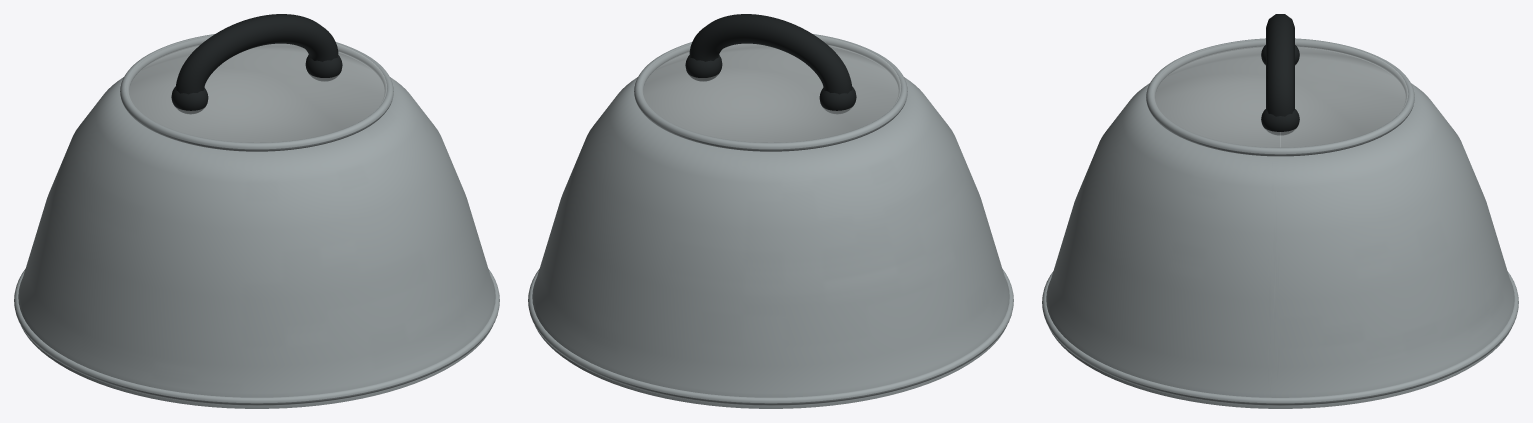
Rendered from cookware__steamer_dome_lid.glb.
3 renders of one model, left to right at view 1: azimuth 30°, elevation 25°; view 2: azimuth 150°, elevation 25°; view 3: azimuth 270°, elevation 25°, orthographic.
Parts seen in each view (by area): view 1: lid; view 2: lid; view 3: lid.
Part boxes in pixels (bbox=[...]): lid: bbox=[14, 14, 499, 408]; lid: bbox=[528, 14, 1013, 408]; lid: bbox=[1042, 14, 1518, 408].
Size of the model in its own units: 0.295 by 0.1938 by 0.295.
3 materials, 1 textured.
